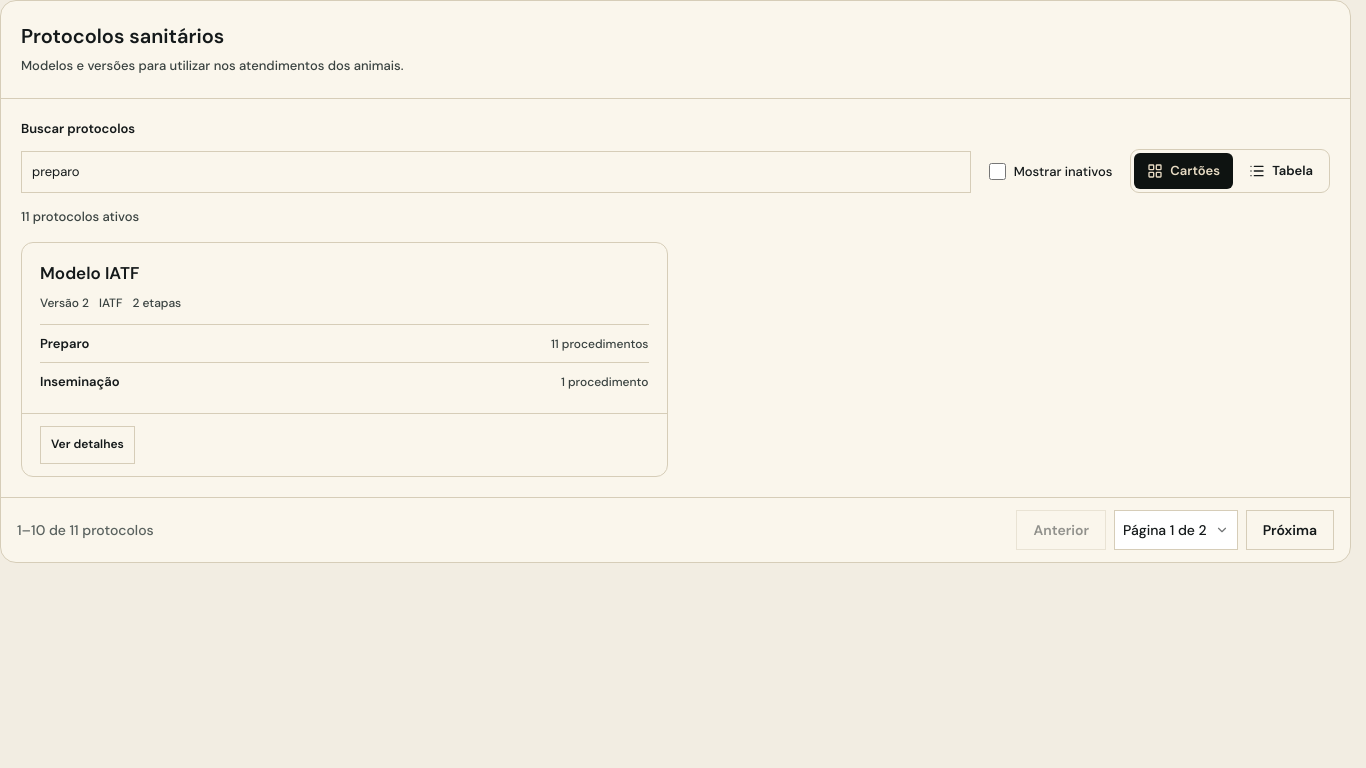
SANITARIO: alterna cards/tabela preservando recorte e permite ao leitor consultar o modal
Expected: the text "Preparo" is shown, [40,334,89,353]
Click the button "Tabela". click: (1281, 170)
box: [1236,152,1326,188]
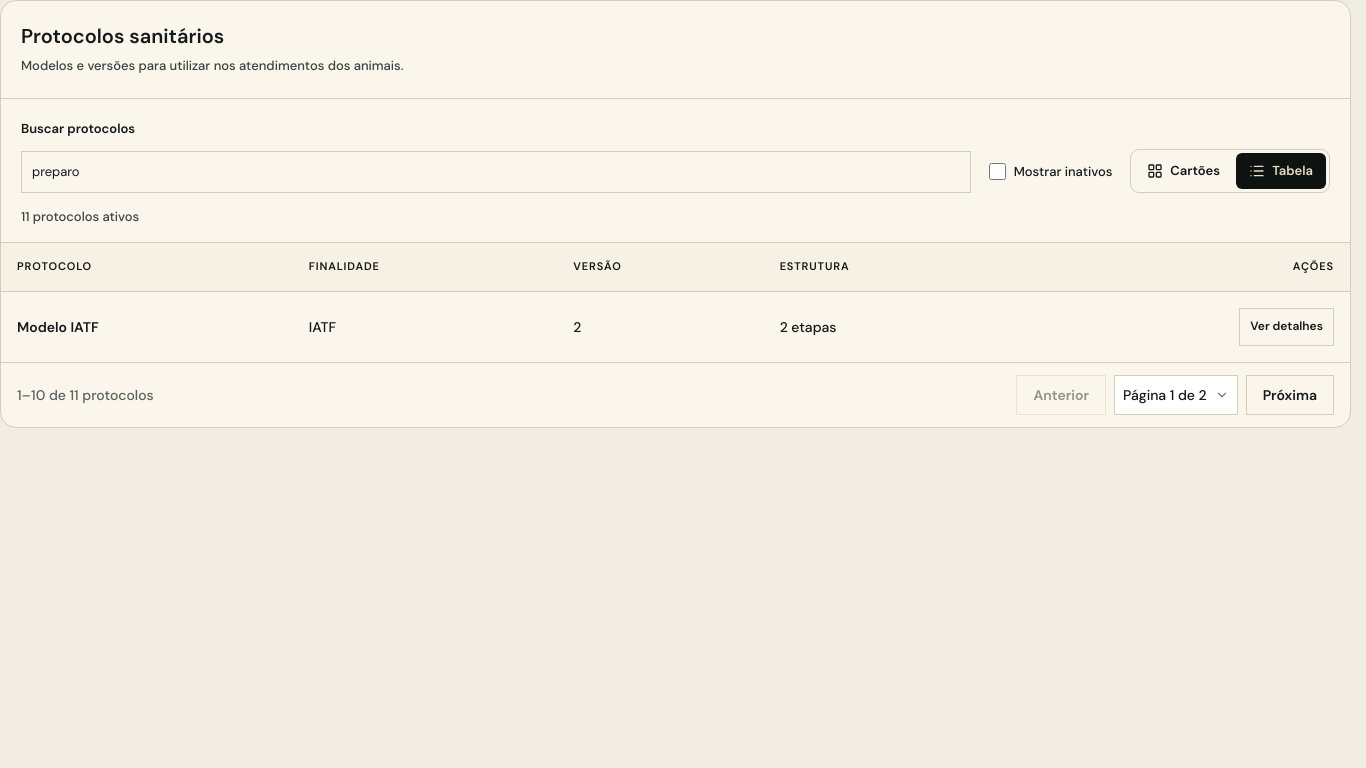
Expected: the search field holds "preparo", [21,151,971,192]
Expected: the table named "Protocolos sanitários" is shown, [1,243,1350,362]
Click the button with aria-label "Ver detalhes de". click: (1287, 327)
box: [1239,308,1334,346]
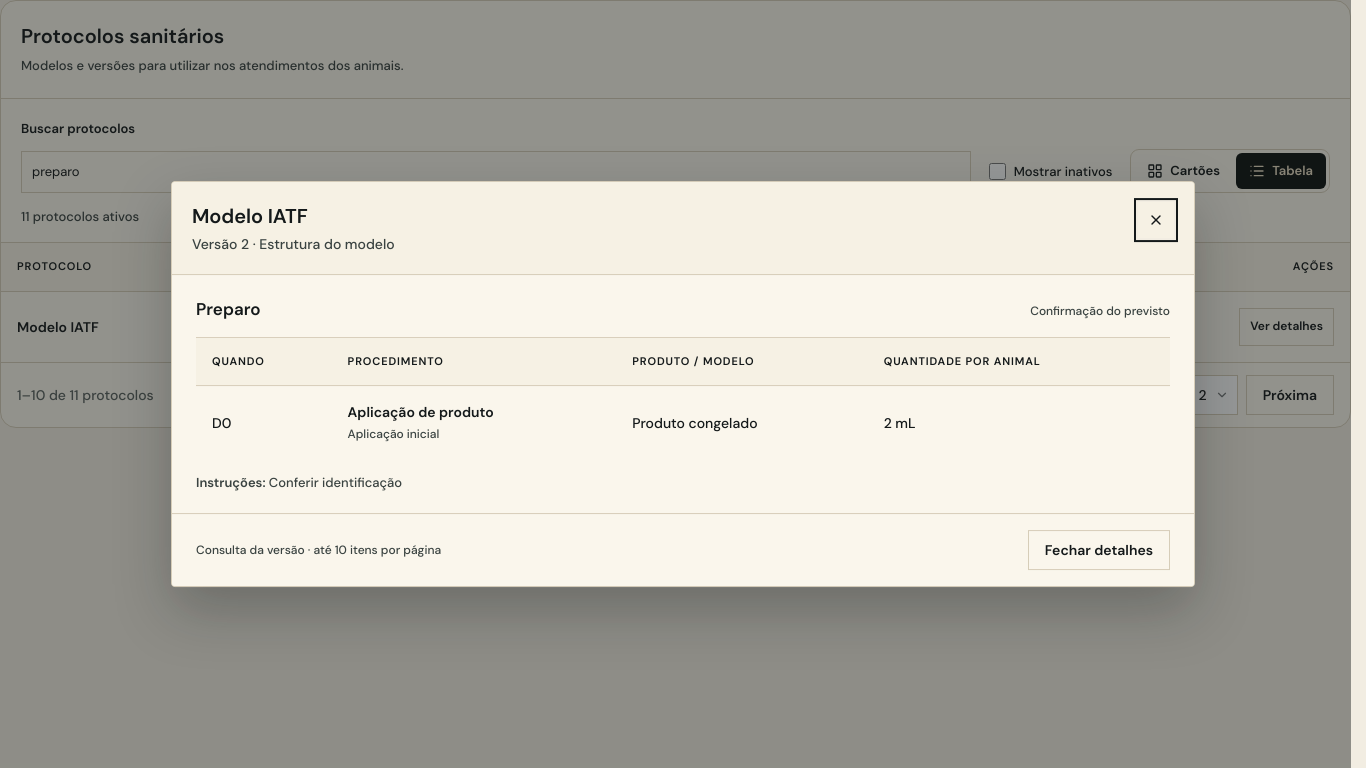
Expected: the dialog is shown, [171,181,1195,587]
Expected: the text "Confirmação do previsto" is shown, [1030,302,1170,320]
Expected: the text "Conferir identificação" is shown, [269,474,402,491]
Click the button "Fechar detalhes". click: (1099, 550)
box: [1028,530,1170,570]
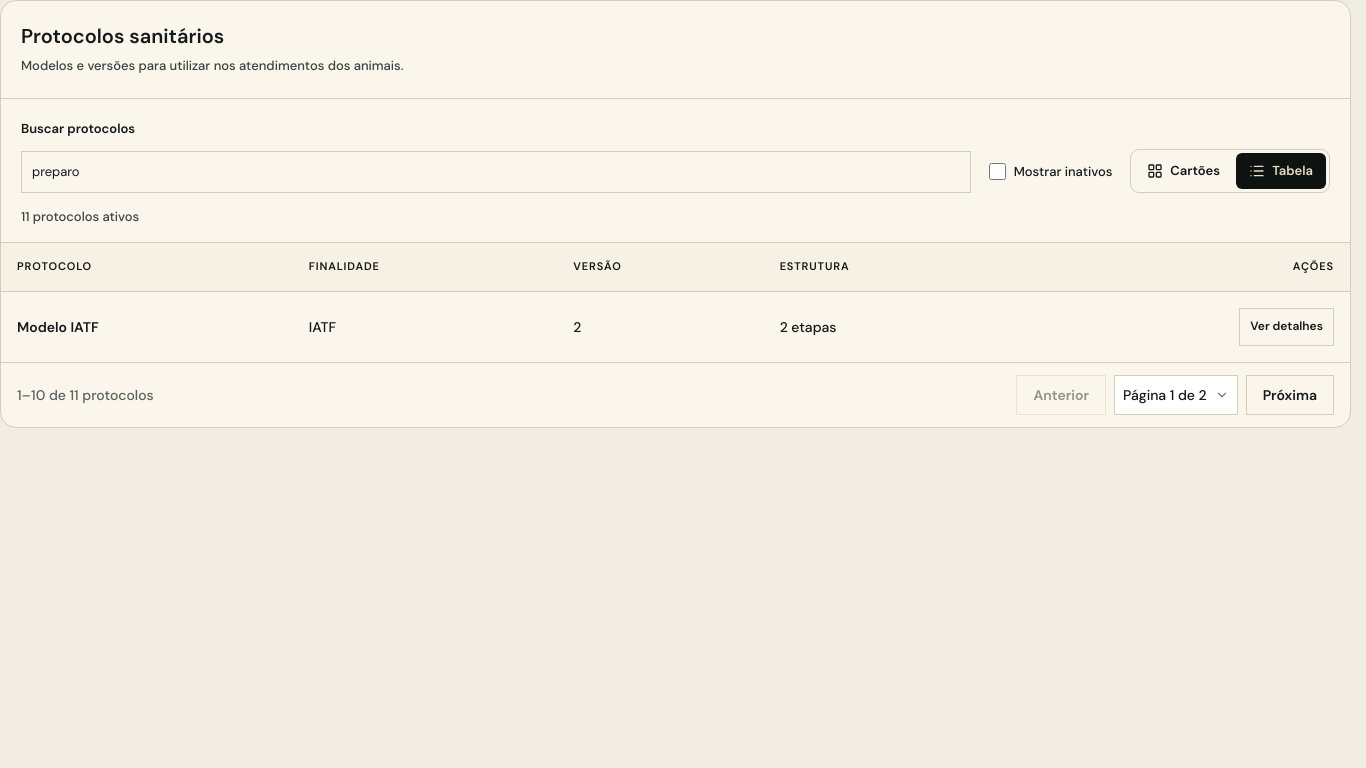
Expected: the dialog is gone
